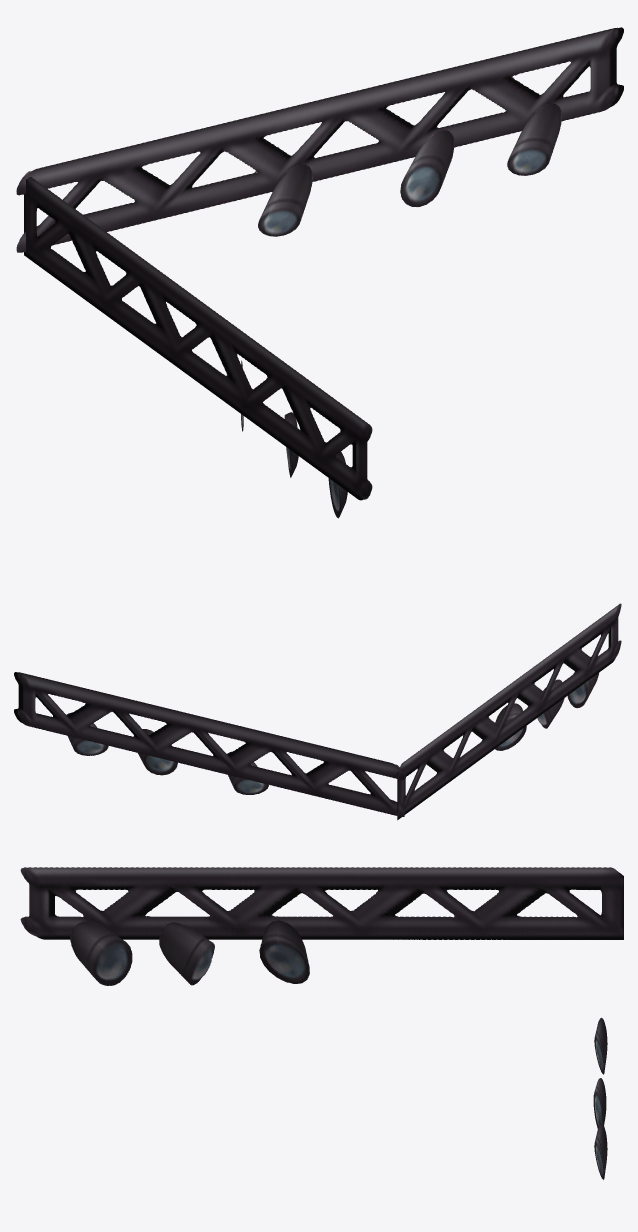
File: K1_oldstagelamp.FBX
3 views of the same model, one above another, from view 1: azimuth 30°, elevation 25°; view 2: azimuth 150°, elevation 25°; view 3: azimuth 270°, elevation 25° (orthographic). The views are drawn at different scales.
Parts seen in each view (by area): view 1: oldstagelamp_01, oldstagelamp_06, oldstagelamp_05, oldstagelamp_07; view 2: oldstagelamp_01, oldstagelamp_06, oldstagelamp_02, oldstagelamp_07, oldstagelamp_05, oldstagelamp_04, oldstagelamp_03; view 3: oldstagelamp_01, oldstagelamp_04, oldstagelamp_02, oldstagelamp_03, oldstagelamp_07, oldstagelamp_05, oldstagelamp_06.
Part boxes in pixels (x1,y1,x2,y2): oldstagelamp_01: (16,27,623,500); oldstagelamp_06: (400,130,454,206); oldstagelamp_05: (507,103,561,175); oldstagelamp_07: (258,164,312,236); oldstagelamp_01: (14,603,621,820); oldstagelamp_06: (138,729,177,775); oldstagelamp_02: (495,703,526,750); oldstagelamp_07: (227,751,268,794); oldstagelamp_05: (67,712,108,755); oldstagelamp_04: (567,657,598,708); oldstagelamp_03: (537,679,564,728); oldstagelamp_01: (20,867,623,939); oldstagelamp_04: (70,921,132,985); oldstagelamp_02: (259,920,309,983); oldstagelamp_03: (159,922,214,985); oldstagelamp_07: (594,1017,607,1074); oldstagelamp_05: (594,1123,607,1179); oldstagelamp_06: (593,1078,606,1128).
Size of the model in its own units: 4.08 by 1.07 by 4.08.
